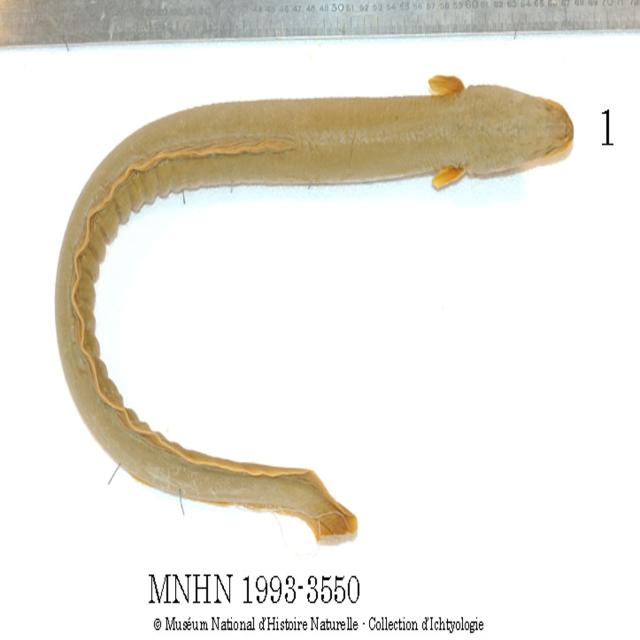Freshwater-Eel: (37, 46, 599, 570)
